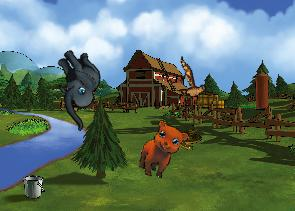bear: (135, 117, 191, 184)
eagle: (162, 56, 221, 111)
elephant: (34, 42, 121, 131)
